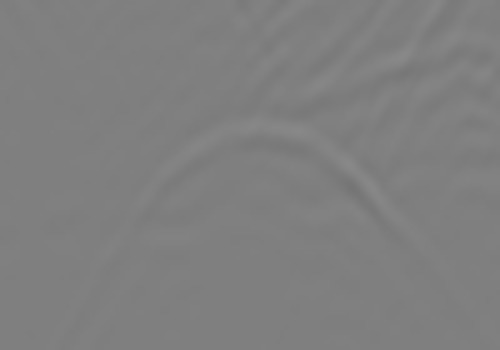hyperbola: (64, 116, 483, 334)
